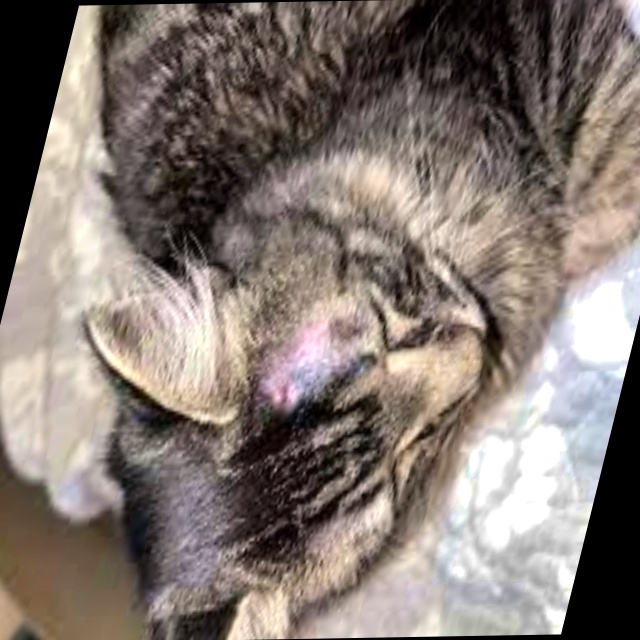ringworm: (246, 289, 366, 422)
